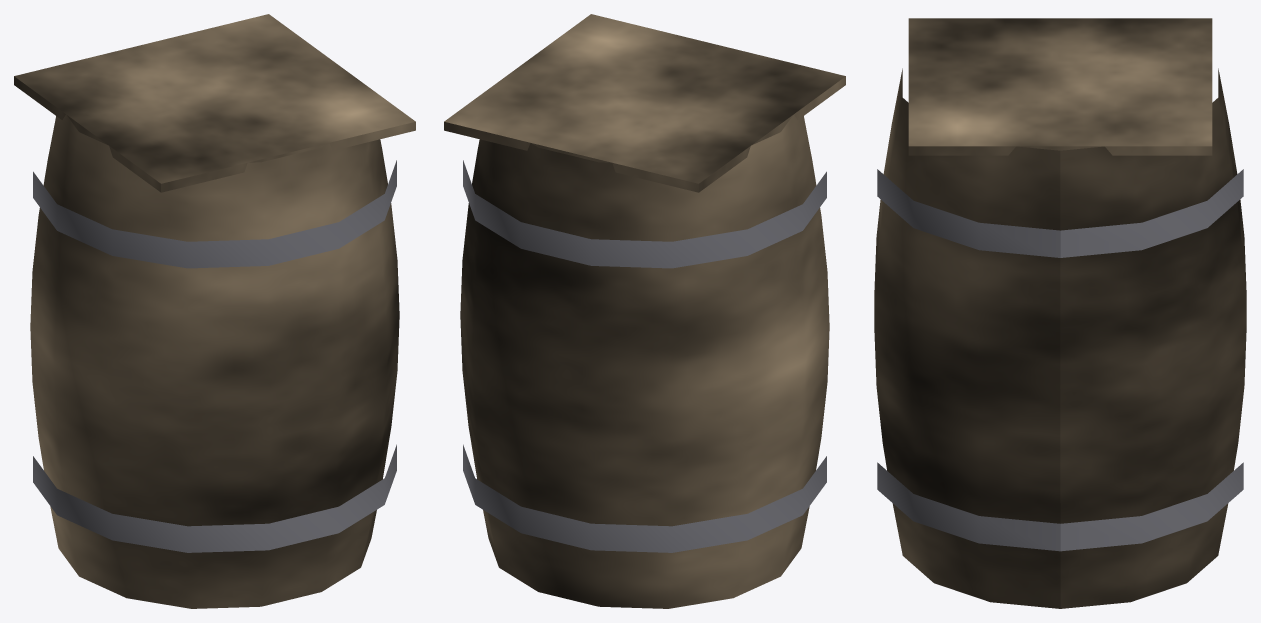
The model's file is barrel.glb.
3 views of the same model, side by side, from view 1: azimuth 30°, elevation 25°; view 2: azimuth 150°, elevation 25°; view 3: azimuth 270°, elevation 25° (orthographic). The views are drawn at different scales.
Bounding box in the file's own units: 0.7552 × 1 × 0.7363.
Materials: 2 (1 with a texture image).
